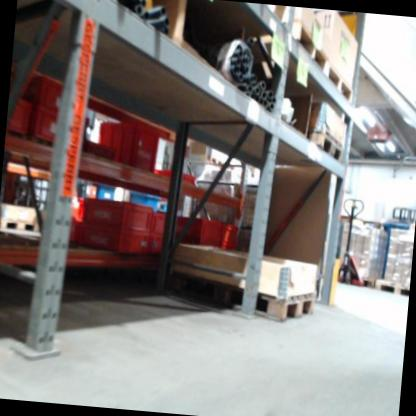pallet: (165, 275, 319, 324), (283, 14, 332, 77), (304, 127, 350, 165), (324, 59, 358, 107), (375, 278, 409, 299), (0, 218, 38, 235)
pallet_truck: (335, 194, 378, 292)
small_load_carrier: (95, 119, 162, 174), (81, 197, 155, 231), (18, 72, 74, 113), (79, 226, 149, 257), (26, 108, 69, 149), (174, 212, 223, 236), (6, 99, 35, 137), (152, 167, 198, 186), (175, 232, 221, 250), (150, 210, 180, 231), (149, 235, 168, 256), (219, 221, 240, 238), (218, 239, 239, 251)
